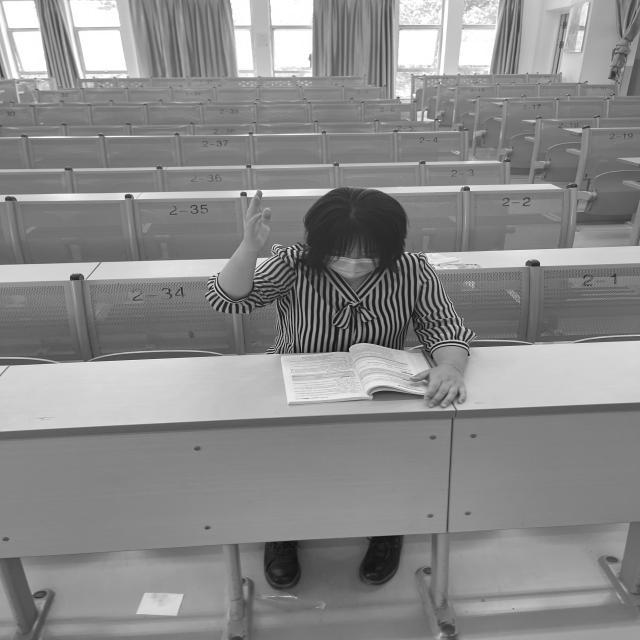study: (211, 189, 472, 404)
